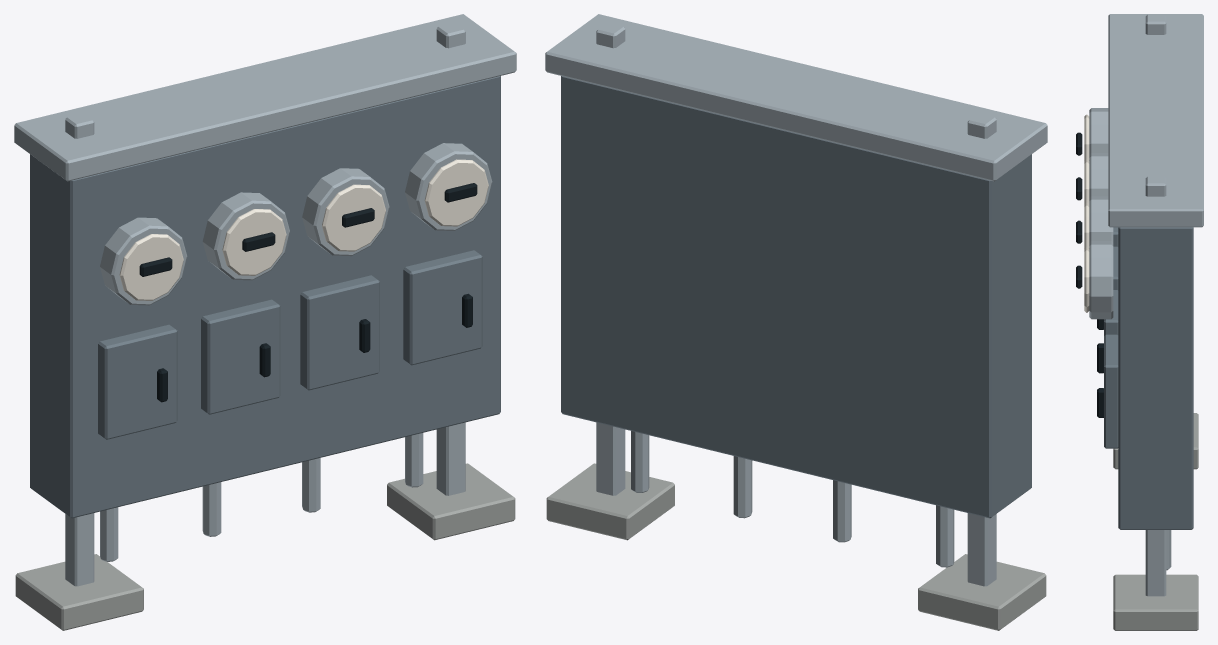
The model's file is b05_four_meter_service_bank.glb.
3 renders of one model, left to right at view 1: azimuth 30°, elevation 25°; view 2: azimuth 150°, elevation 25°; view 3: azimuth 270°, elevation 25°, orthographic. The views are drawn at different scales.
Parts seen in each view (by area): view 1: b05_four_meter_service_bank; view 2: b05_four_meter_service_bank; view 3: b05_four_meter_service_bank.
Boxes of the visible parts, x1=… form: b05_four_meter_service_bank: x1=14, y1=14, x2=516, y2=630; b05_four_meter_service_bank: x1=545, y1=14, x2=1047, y2=630; b05_four_meter_service_bank: x1=1076, y1=14, x2=1203, y2=630.
Bounding box in the file's own units: 1.37 × 1.4 × 0.374.
